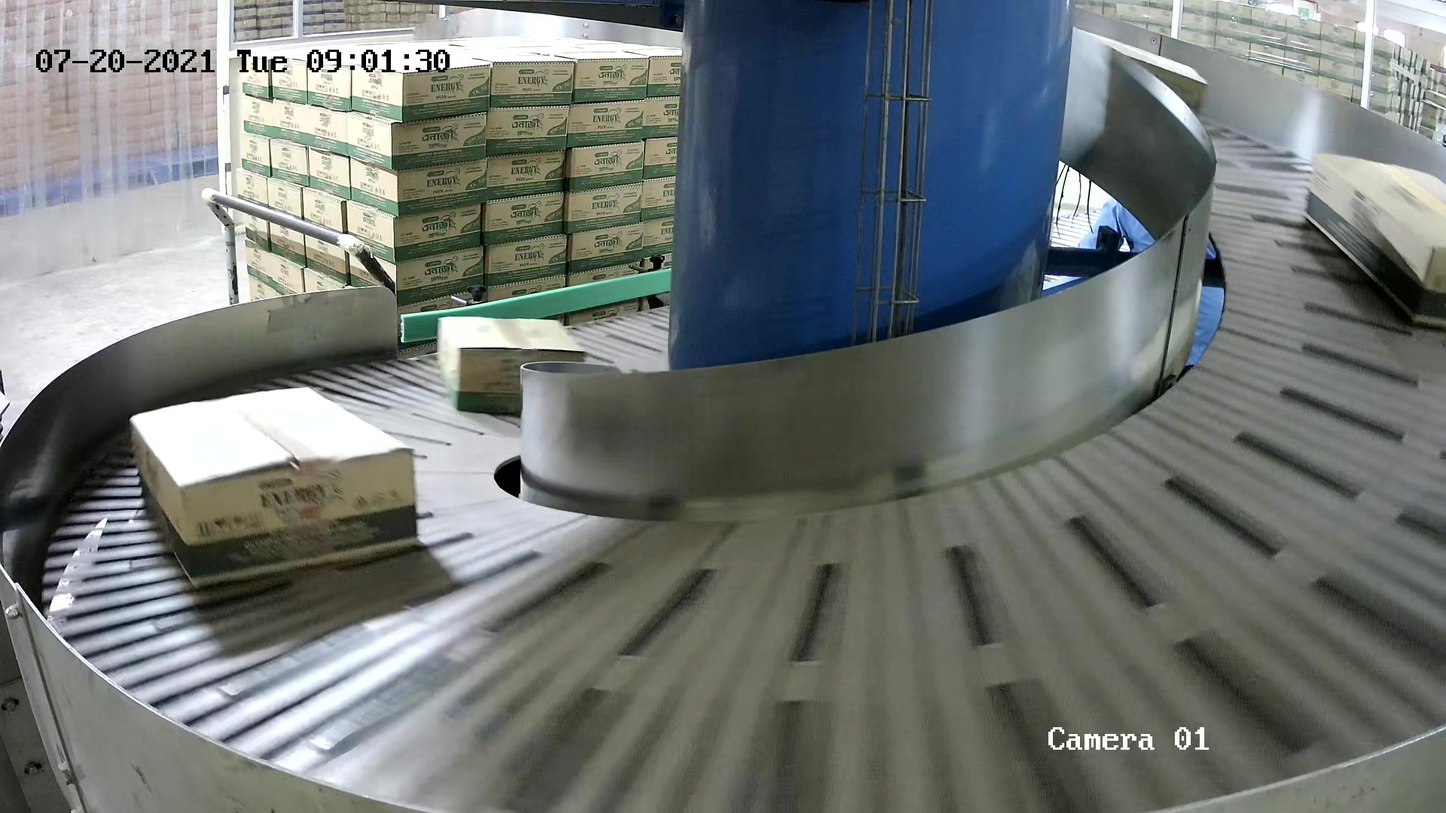Box: (128, 385, 421, 591), (1302, 150, 1446, 329), (436, 315, 589, 414)
